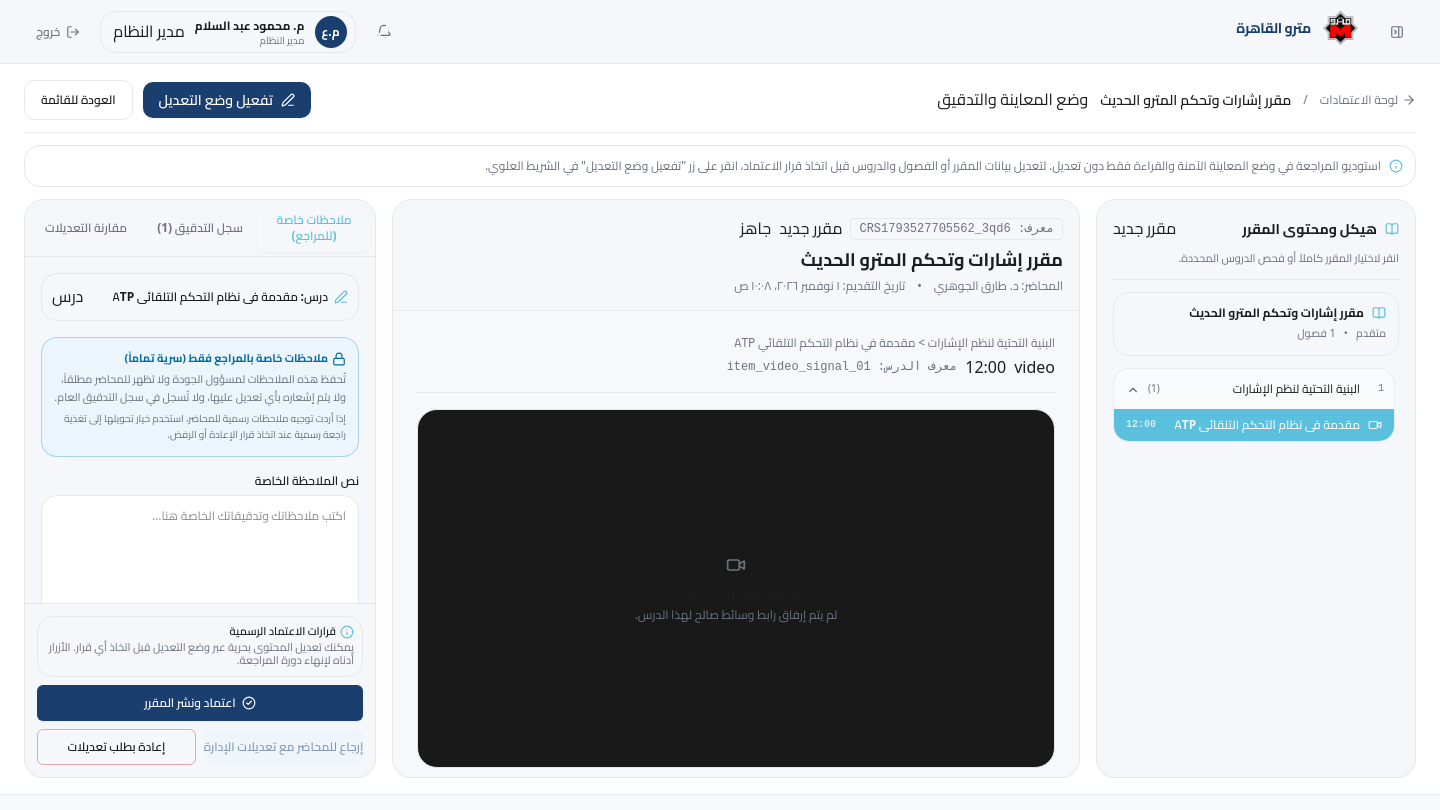
Test: Increment 9 — Phase 6: Decision Modal & The Three Review Outcomes › Review Studio Inspector Action Buttons › shows contextual tooltip on hover and focus explaining how to enable the return-with-edits button when no staged edits exist
Expected: the button with test id "action-approve-btn" is shown, [37,685,363,721]
// Trigger hover on the trigger wrapper
Hover over the element showing "إرجاع للمحاضر مع تعديلات الإدارة" at [284, 747], box [204,729,363,765]
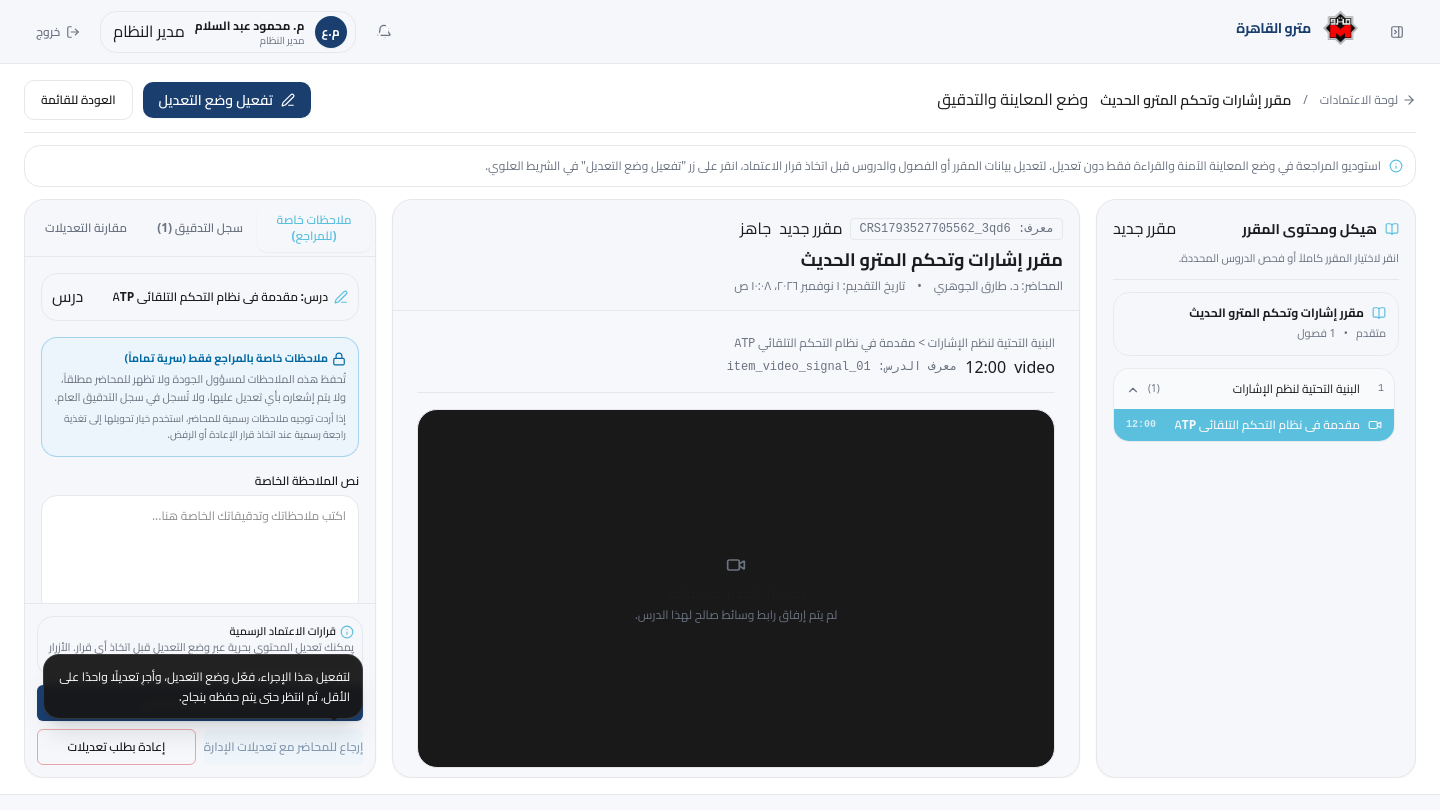
Result: the tooltip with test id "return-edits-tooltip" is shown at [43,654,363,719]
Result: the tooltip with test id "return-edits-tooltip" shows "لتفعيل هذا الإجراء، فعّل وضع التعديل، وأجرِ تعديلًا واحدًا على الأقل، ثم انتظر حتى يتم حفظه بنجاح." at [59,665,350,708]
// Mouse leave hides tooltip
Move the pointer off the element named "لتفعيل هذا الإجراء، فعّل وضع التعديل، وأجرِ تعديلًا واحدًا ع", box [204,729,363,765]
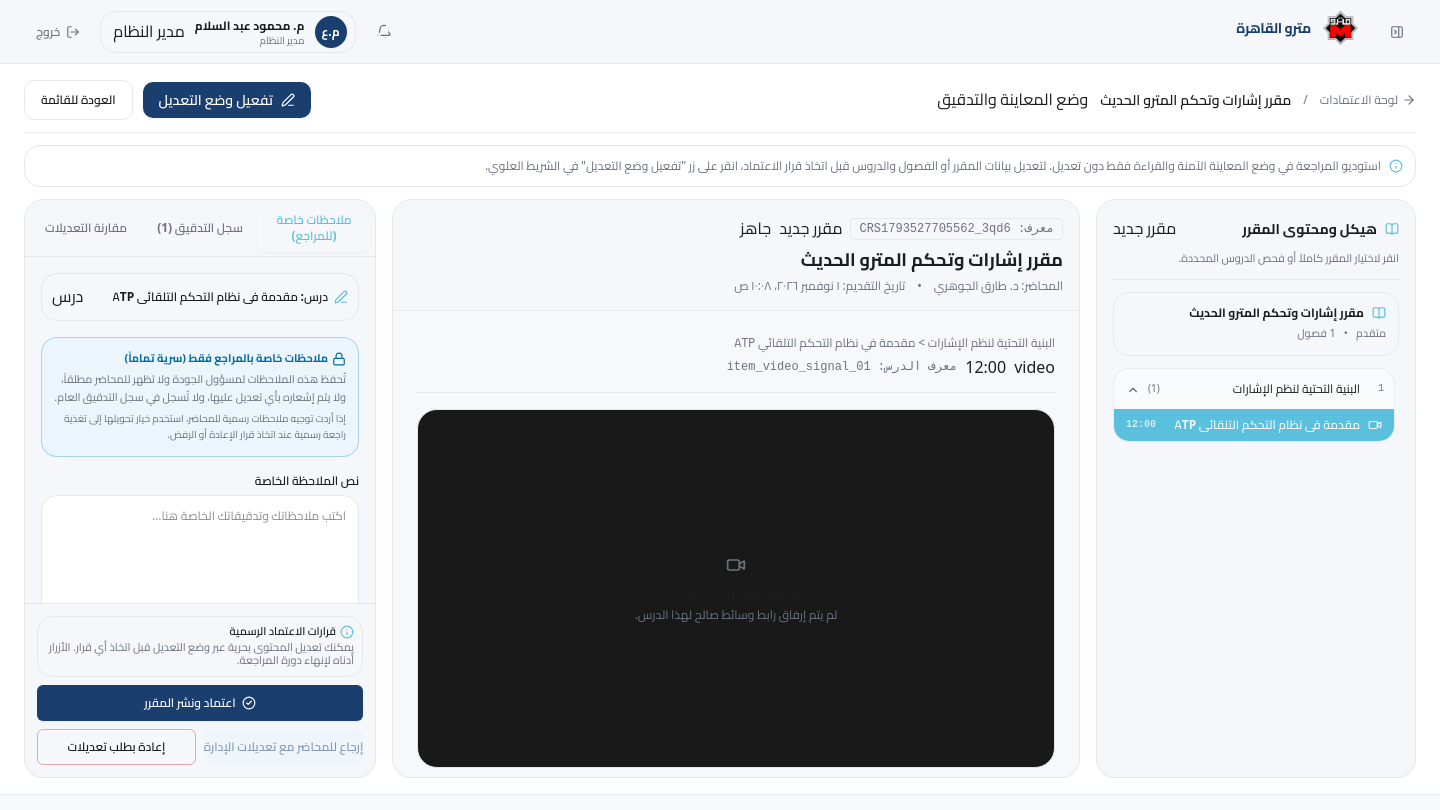
Result: the tooltip with test id "return-edits-tooltip" is gone
// Keyboard focus on the accessible trigger wrapper displays tooltip
Focus the element showing "إرجاع للمحاضر مع تعديلات الإدارة" at [284, 747], box [204,729,363,765]
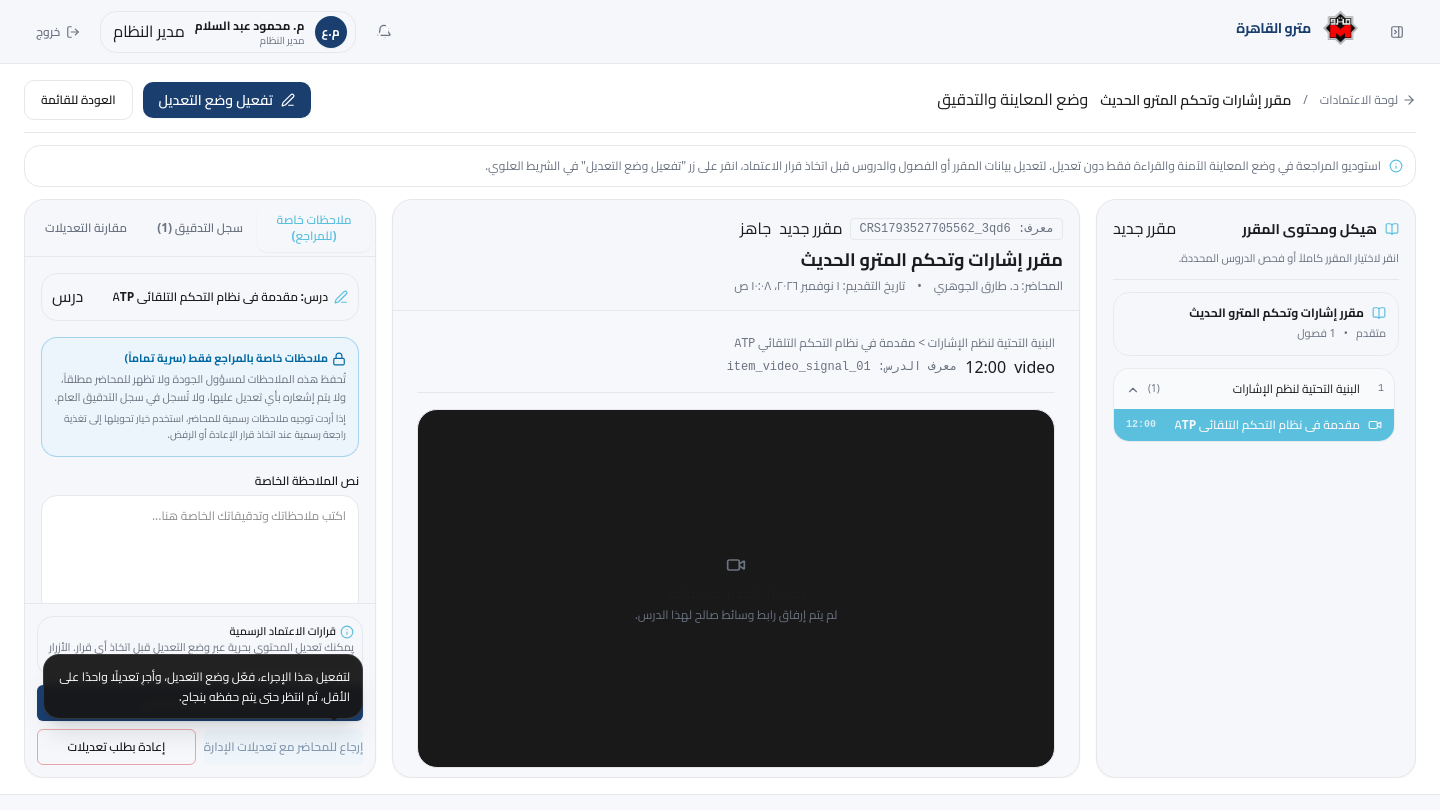
Result: the tooltip with test id "return-edits-tooltip" is shown at [43,654,363,719]
Result: the tooltip with test id "return-edits-tooltip" shows "لتفعيل هذا الإجراء، فعّل وضع التعديل، وأجرِ تعديلًا واحدًا على الأقل، ثم انتظر حتى يتم حفظه بنجاح." at [59,665,350,708]
